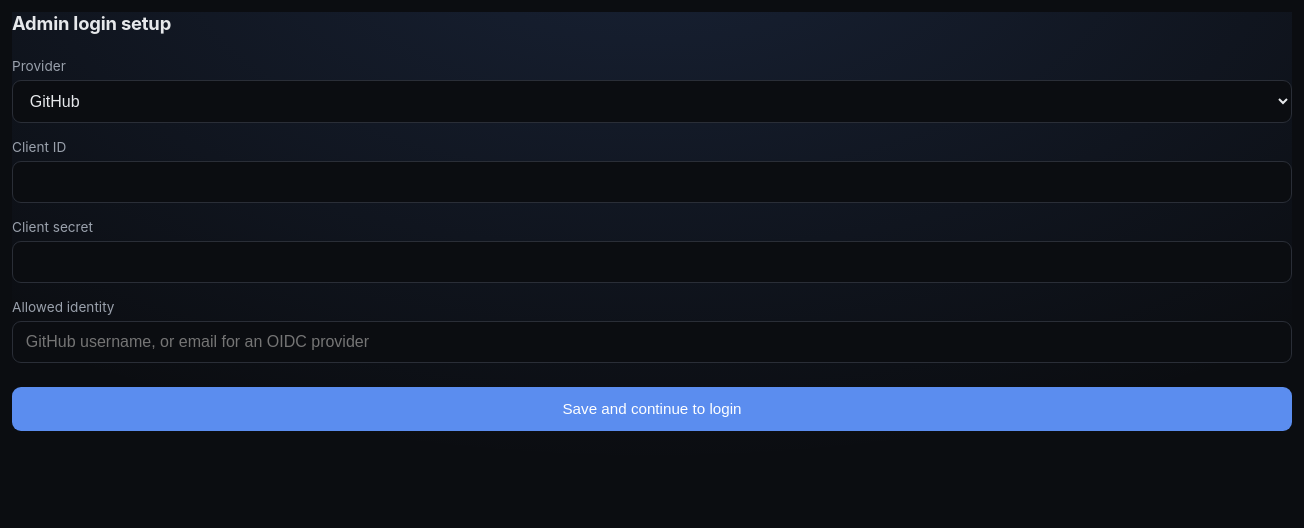
SetupForm › shows the issuer URL field when oidc is selected
Select "Custom OIDC provider" in the dropdown labelled "Provider" at (652, 101), box [12, 80, 1292, 123]
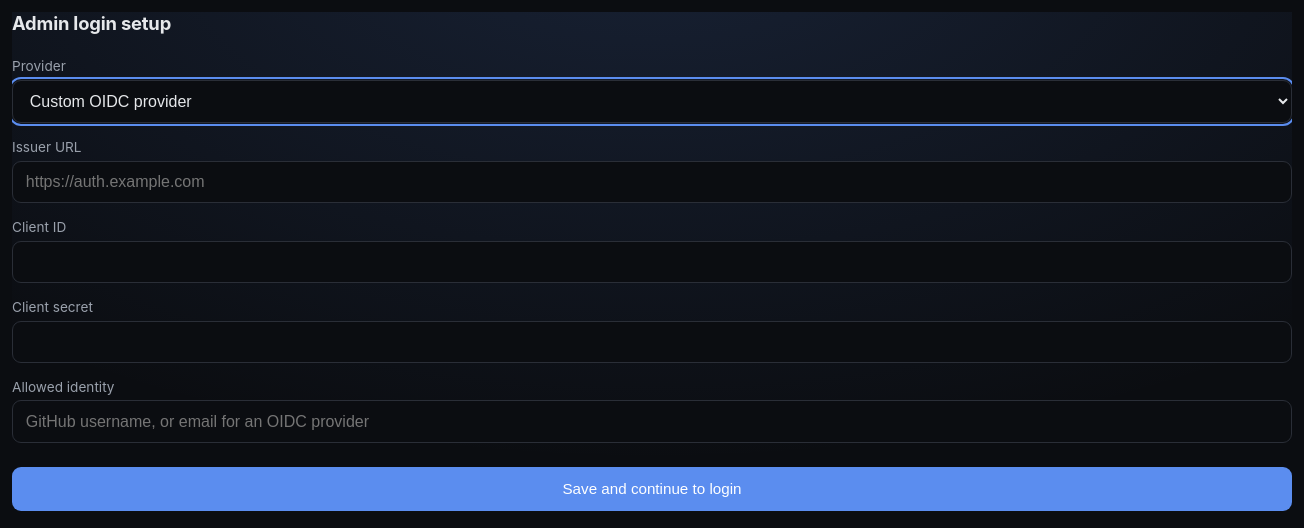
Result: the field labelled "Issuer URL" is shown at [12, 161, 1292, 203]
